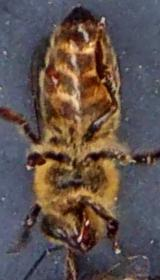varroa_mite: (32, 54, 68, 96)
